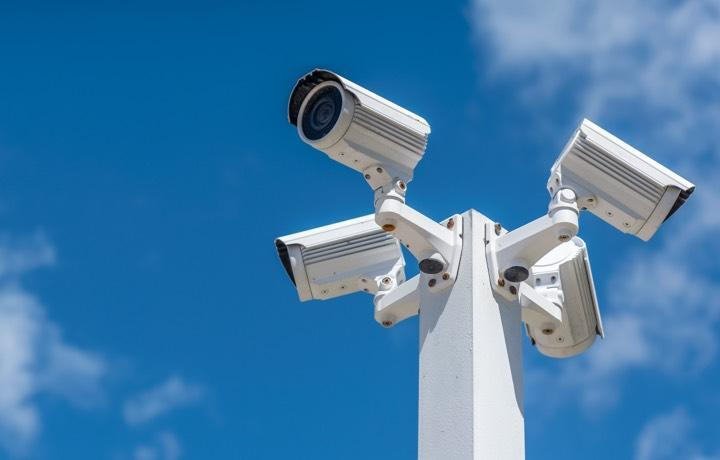------------------------------: (543, 116, 699, 248), (283, 63, 435, 187)
